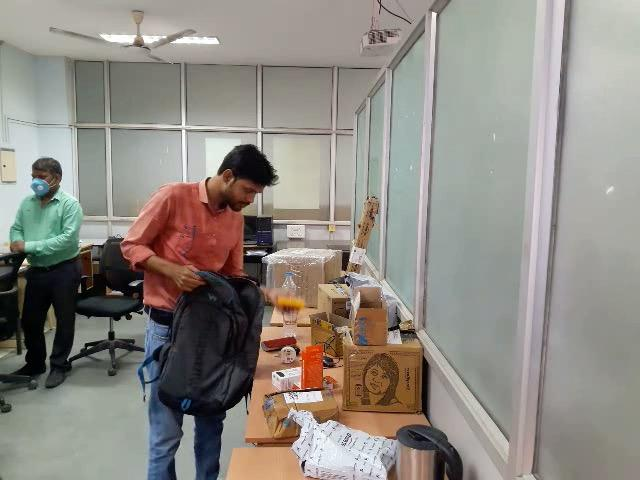shoplifting: (86, 204, 379, 431)
